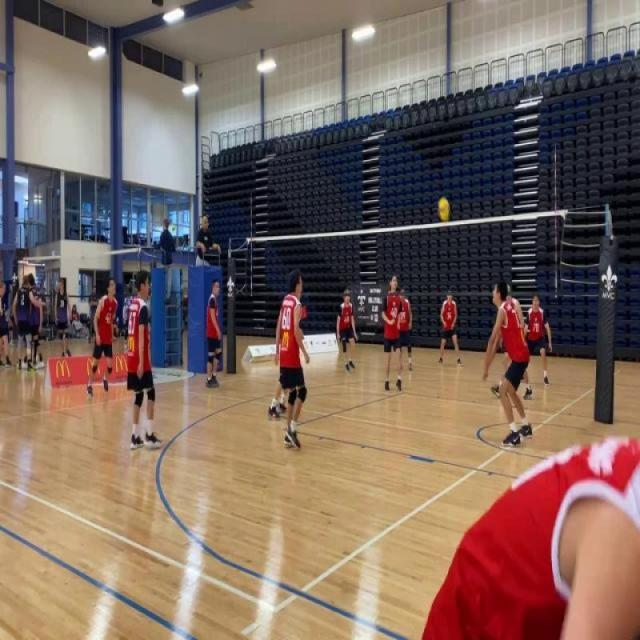volleyball: (435, 193, 454, 222), (170, 222, 178, 232)
